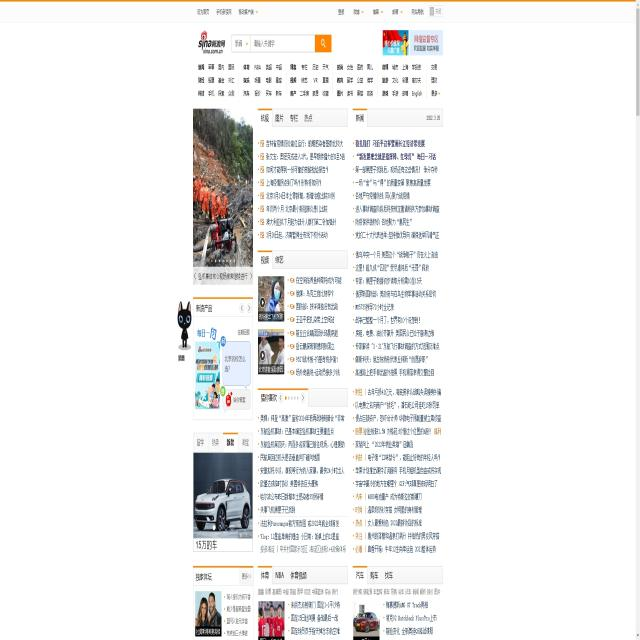menu-bar: (334, 1, 447, 22)
menu-panel: (194, 60, 442, 102)
search: (230, 33, 334, 51)
side-panel: (188, 100, 254, 553)
tab-bar: (353, 105, 443, 130), (259, 102, 349, 126), (353, 564, 443, 587), (256, 249, 348, 269), (193, 428, 252, 452), (191, 4, 261, 22), (257, 385, 309, 408), (257, 564, 311, 584)
